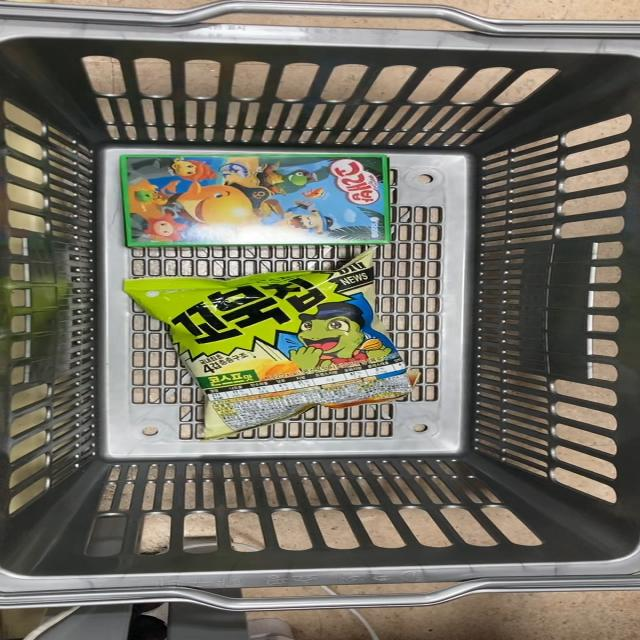ggobukchip: (114, 259, 415, 426)
goraebob: (101, 150, 425, 257)
